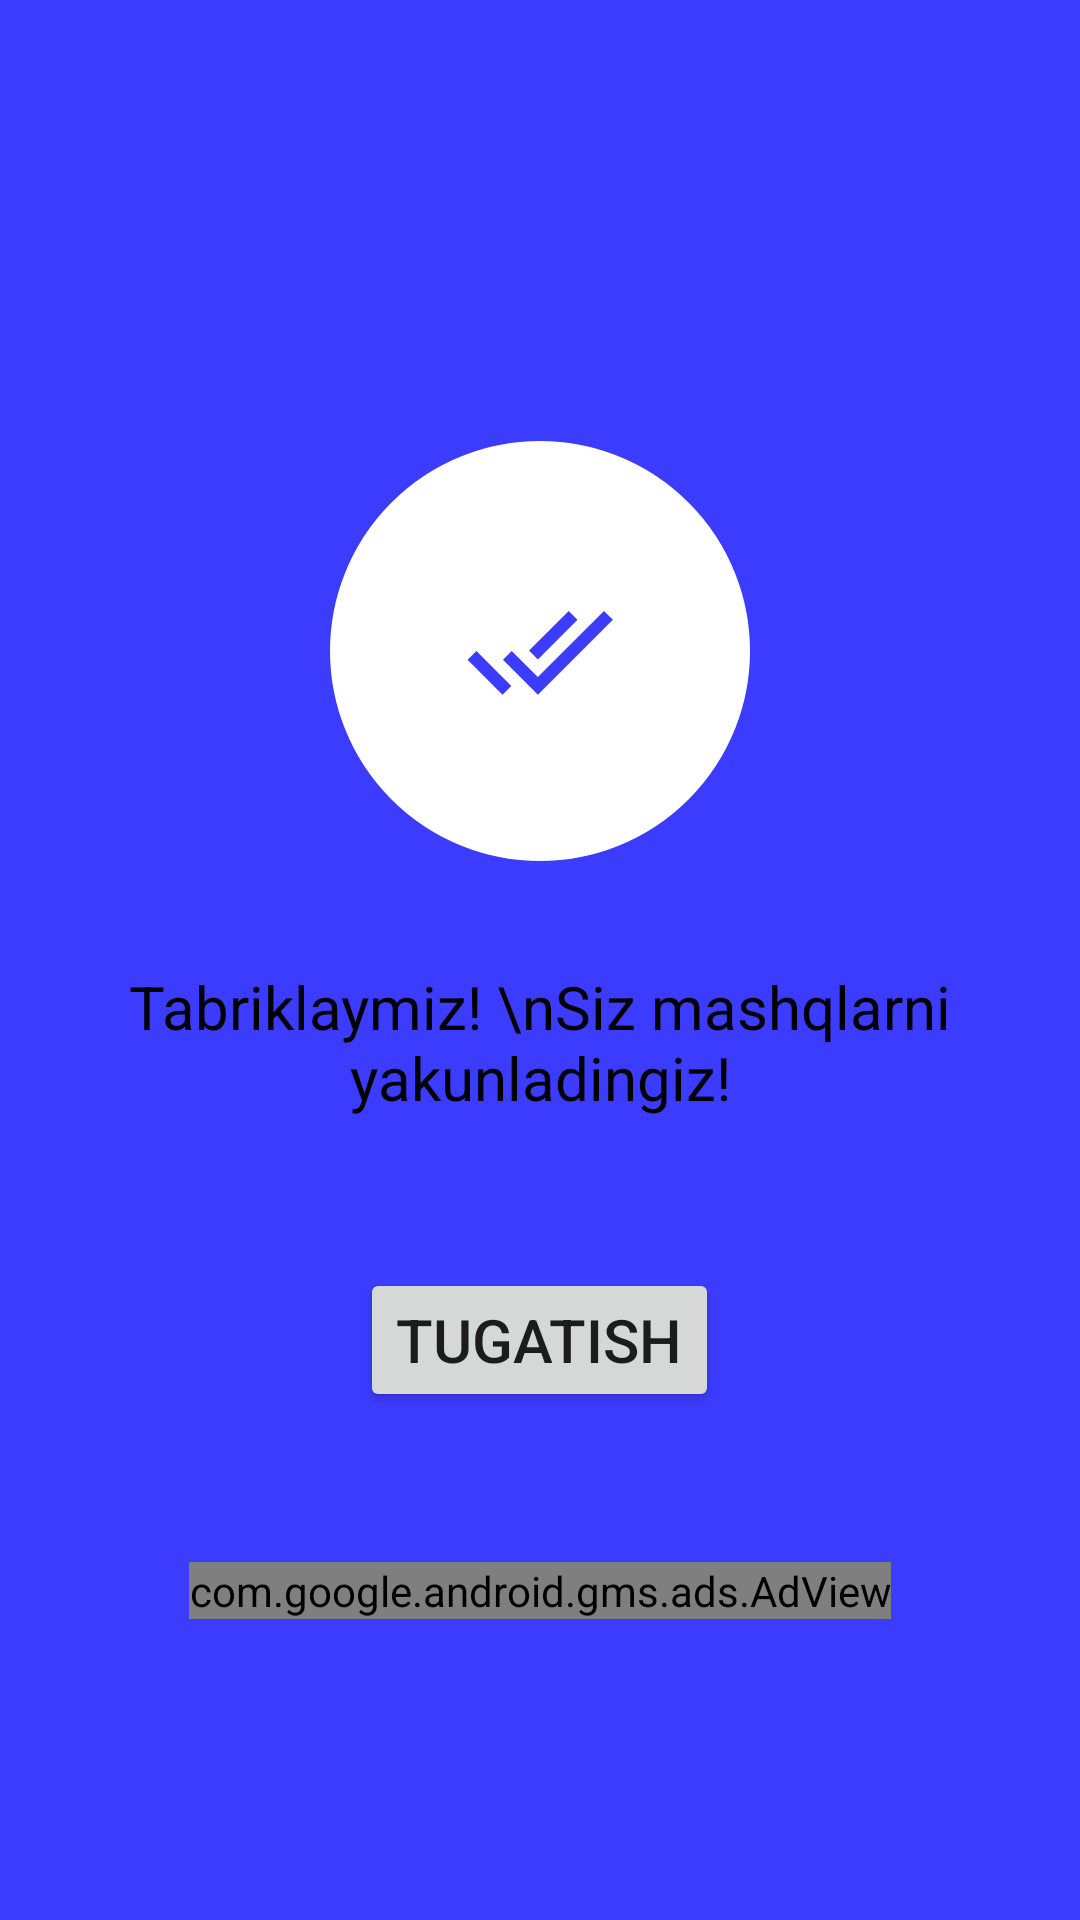

Where icons sit on this 1080*1920 app screen, as (x1, y1, x2, y2):
done all: (467, 611, 613, 695)
